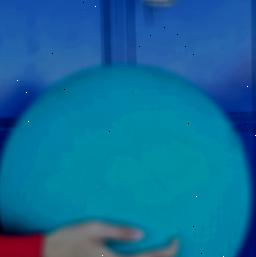algae: (0, 63, 252, 257)
